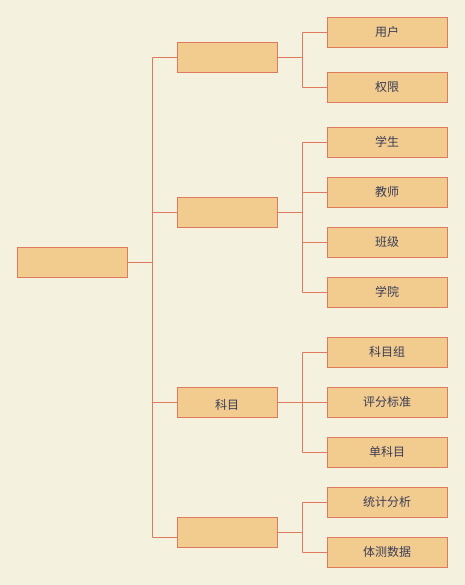
This 465x585 diagram has some shape labels left out. Each missing label, with the centre of its shape:
"体质健康数据系统" goes at point (72, 262).
"体质测试" goes at point (227, 532).
"基础数据" goes at point (227, 212).
"认证权限" goes at point (227, 57).
